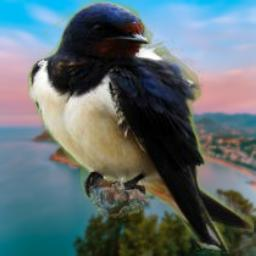Swallow: (27, 0, 254, 256)
